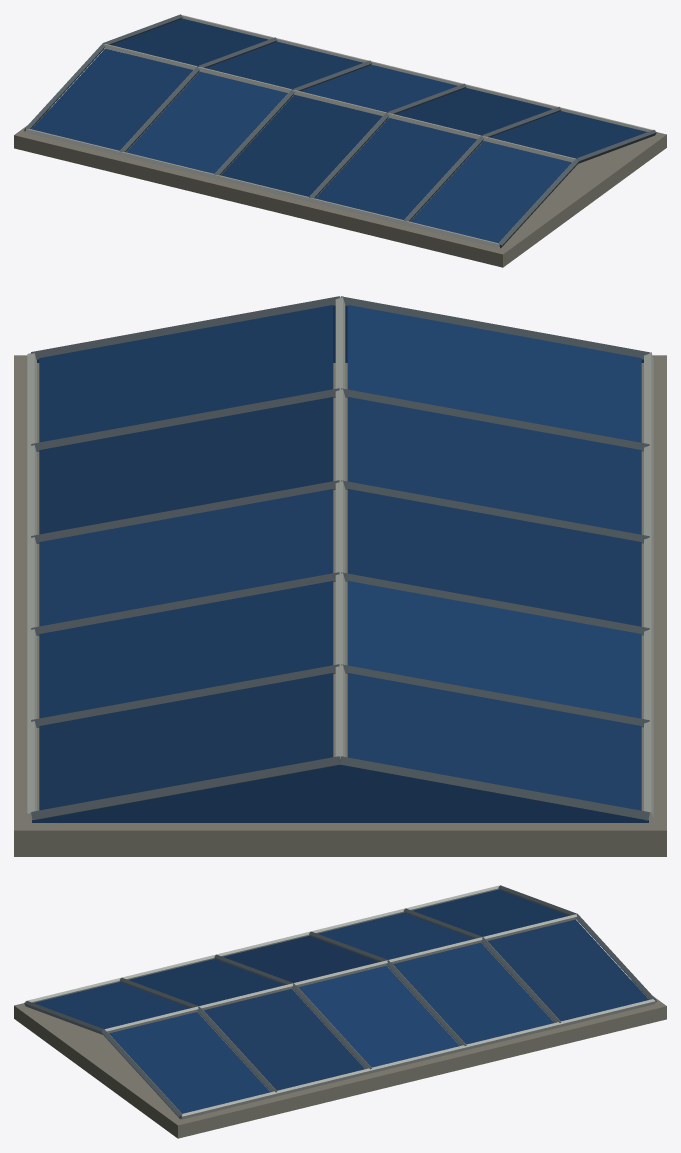
Rendered from skylight6.glb.
3 views of the same model, one above another, from view 1: azimuth 30°, elevation 25°; view 2: azimuth 150°, elevation 25°; view 3: azimuth 270°, elevation 25° (orthographic). The views are drawn at different scales.
Visible parts, largest first — view 1: skylight6; view 2: skylight6; view 3: skylight6.
Boxes of the visible parts, x1,y1,x2,y2 form: skylight6: [14, 14, 666, 267]; skylight6: [14, 296, 666, 856]; skylight6: [14, 885, 666, 1138].
Size of the model in its own units: 62.18 by 5.71 by 71.69.
